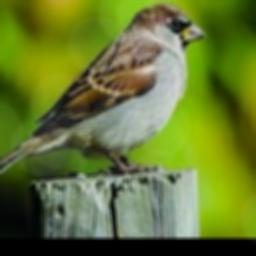Sparrow: (0, 4, 206, 181)
